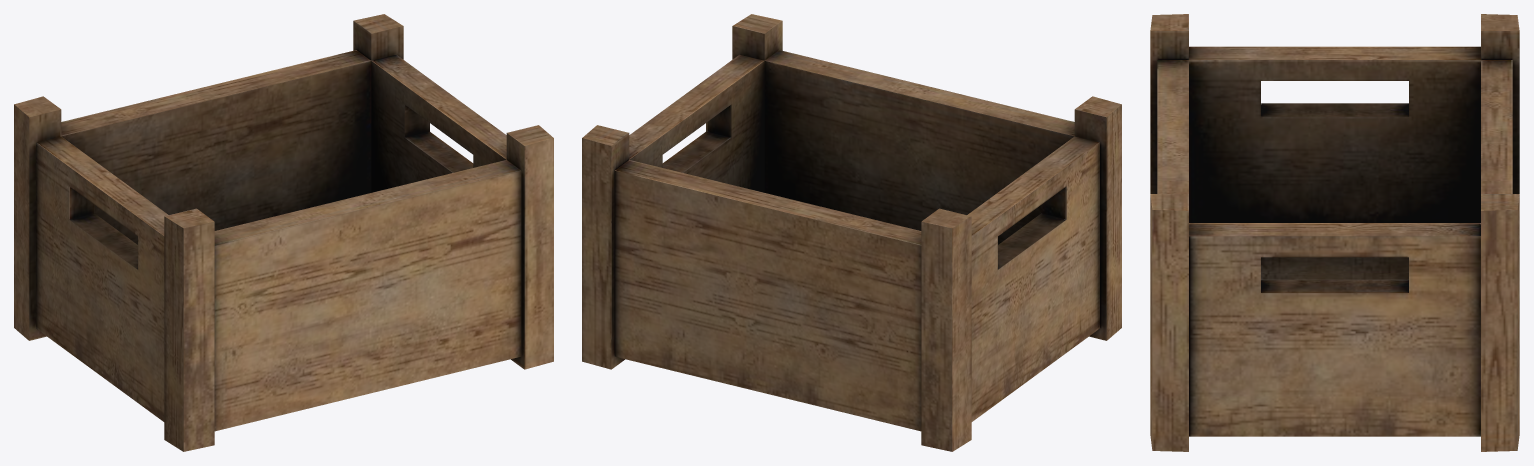
The model's file is SM_Wood_Box1.fbx.
The picture shows the model from 3 angles, left to right: view 1: azimuth 30°, elevation 25°; view 2: azimuth 150°, elevation 25°; view 3: azimuth 270°, elevation 25°; orthographic projection. The views are drawn at different scales.
Parts seen in each view (by area): view 1: Wood_Box1; view 2: Wood_Box1; view 3: Wood_Box1.
Boxes of the visible parts, x1=… form: Wood_Box1: x1=14, y1=14, x2=553, y2=451; Wood_Box1: x1=582, y1=14, x2=1121, y2=451; Wood_Box1: x1=1150, y1=14, x2=1519, y2=451.
Size of the model in its own units: 86.81 by 49.56 by 68.79.
